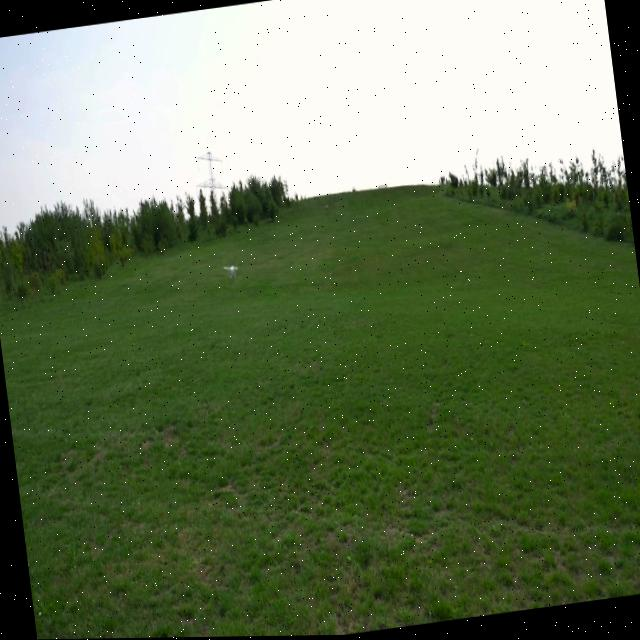drone: (222, 262, 240, 279)
